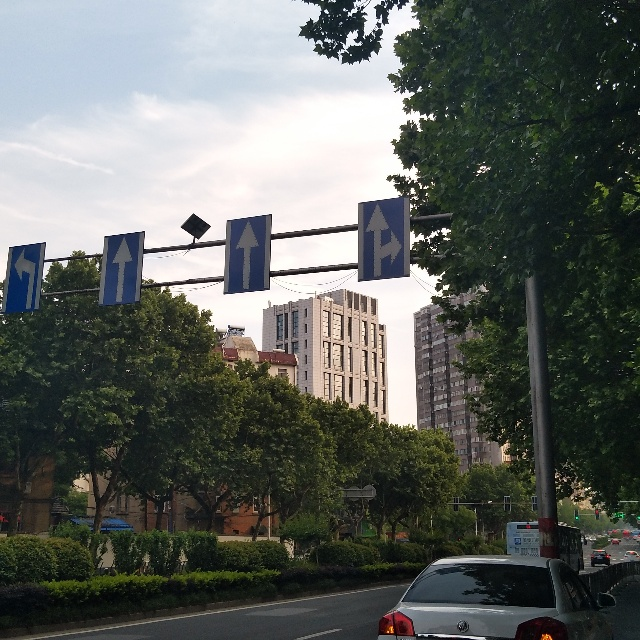left: (3, 242, 45, 313)
straight: (224, 215, 271, 292), (100, 233, 143, 304)
